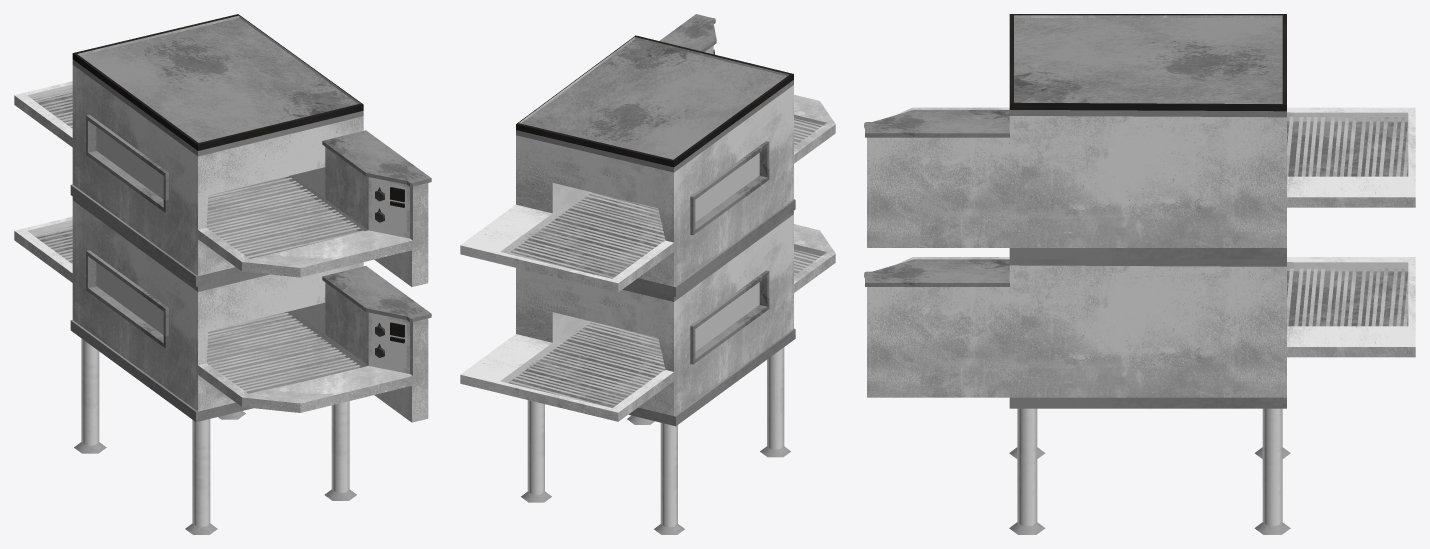
The model's file is KitchenPizzaMaker.fbx.
3 views of the same model, side by side, from view 1: azimuth 30°, elevation 25°; view 2: azimuth 150°, elevation 25°; view 3: azimuth 270°, elevation 25° (orthographic). The views are drawn at different scales.
Visible parts, largest first — view 1: Cube.042; view 2: Cube.042; view 3: Cube.042.
Part boxes in pixels (x1,y1,x2,y2): Cube.042: (14,14,431,534); Cube.042: (460,14,835,534); Cube.042: (864,14,1415,534).
Bounding box in the file's own units: 58.94 × 129 × 149.
